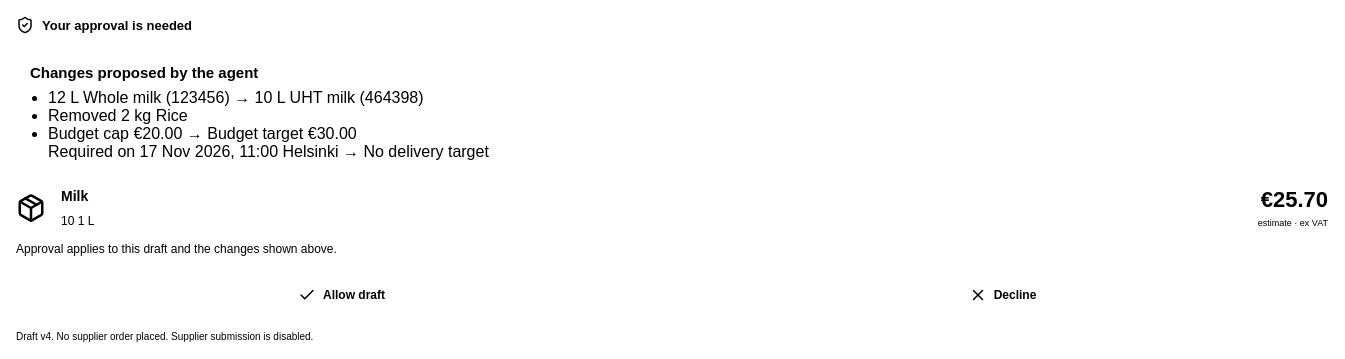
inline purchase decisions › shows material agent changes before approving the same draft revision
The width and height of the screenshot is (1345, 359).
Click the button "Allow draft" at (342, 295), box x1=16 y1=274 x2=667 y2=316
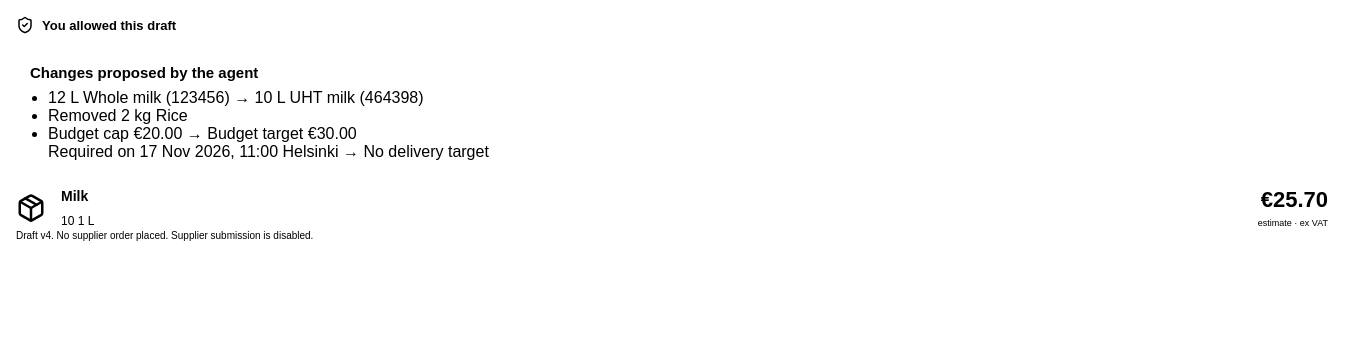
Result: the text "You allowed this draft" is shown at x1=42 y1=18 x2=176 y2=32
